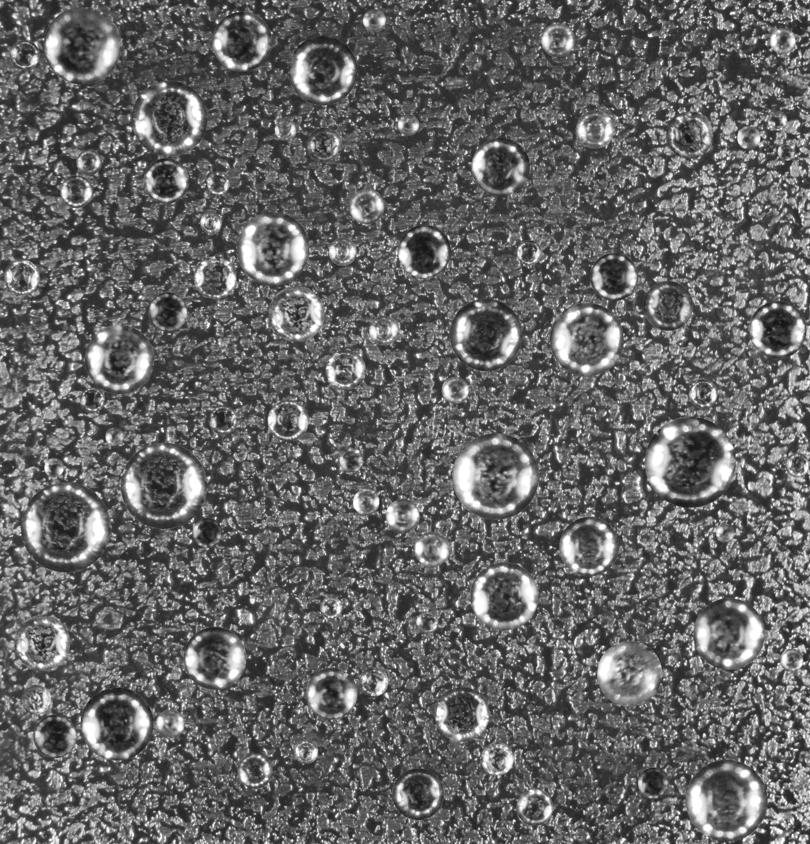Bubble: (645, 416, 735, 507), (20, 482, 110, 572), (120, 442, 206, 528), (452, 433, 538, 519), (686, 760, 767, 841), (43, 6, 121, 84), (131, 80, 207, 156), (550, 302, 623, 376), (236, 212, 309, 285), (80, 687, 153, 760), (449, 298, 522, 370), (693, 598, 764, 669), (85, 325, 154, 394), (288, 36, 357, 105), (470, 562, 538, 630), (597, 641, 662, 706), (183, 627, 246, 689), (212, 11, 271, 71), (559, 517, 618, 576), (471, 137, 529, 196), (749, 301, 806, 358), (268, 286, 324, 341), (14, 615, 69, 670), (434, 687, 489, 741), (398, 225, 450, 277), (392, 768, 443, 820), (306, 668, 357, 719), (643, 281, 693, 330), (590, 253, 638, 300), (666, 111, 713, 158), (143, 158, 188, 203), (33, 715, 76, 758), (193, 256, 236, 298), (267, 400, 308, 441), (325, 350, 365, 390), (148, 292, 187, 331), (576, 110, 614, 148), (516, 789, 553, 825), (237, 753, 272, 788), (307, 127, 342, 162), (349, 189, 384, 224), (4, 259, 39, 294), (414, 532, 449, 566), (385, 499, 419, 533), (541, 23, 574, 56), (481, 742, 513, 775), (60, 175, 92, 207), (638, 767, 668, 798), (21, 684, 51, 714), (9, 40, 39, 69), (192, 518, 222, 547), (369, 315, 398, 345), (688, 379, 717, 408), (155, 709, 184, 738), (208, 405, 237, 434), (359, 667, 388, 696), (328, 237, 356, 265), (441, 376, 468, 403), (353, 488, 379, 515), (770, 27, 795, 53), (76, 149, 101, 175), (516, 240, 541, 265), (79, 387, 104, 412), (785, 453, 809, 477), (339, 448, 363, 472), (294, 740, 318, 763), (206, 171, 229, 194), (780, 648, 803, 671), (737, 126, 760, 149), (320, 596, 342, 619), (363, 9, 385, 31), (416, 611, 438, 633), (274, 119, 296, 140), (398, 114, 419, 135), (200, 212, 221, 233), (767, 111, 787, 130), (44, 458, 63, 477), (716, 523, 734, 542), (777, 142, 795, 160), (105, 427, 123, 445)
